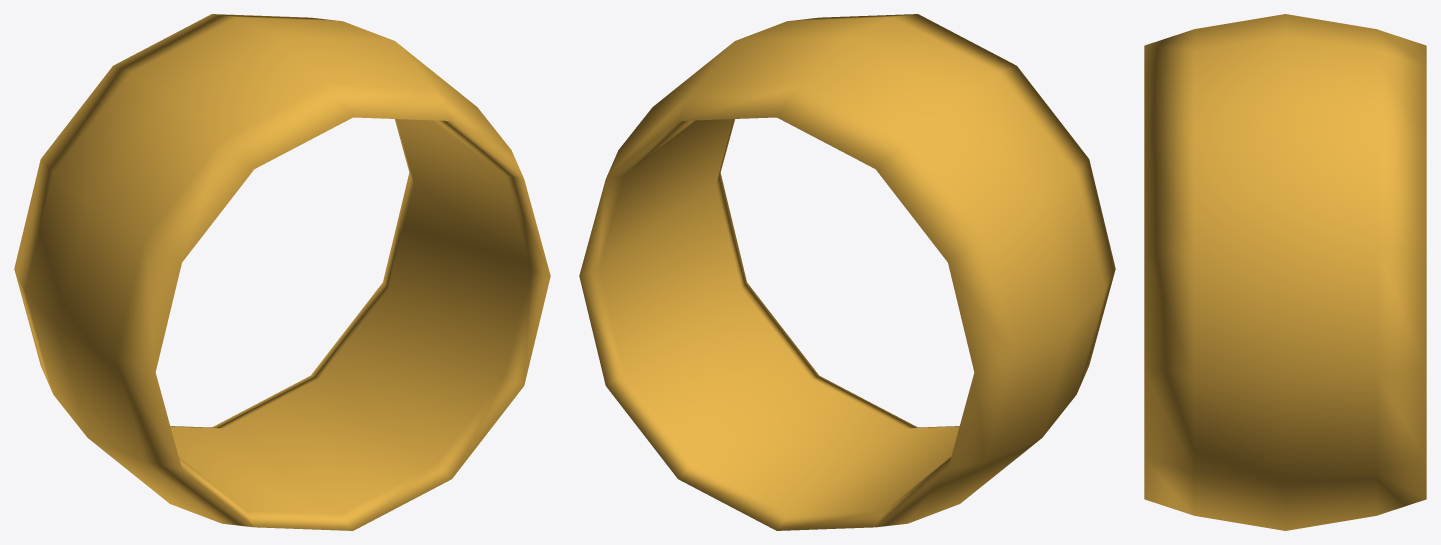
File: bangle-01.fbx
3 renders of one model, left to right at view 1: azimuth 30°, elevation 25°; view 2: azimuth 150°, elevation 25°; view 3: azimuth 270°, elevation 25°, orthographic.
Parts seen in each view (by area): view 1: Torus; view 2: Torus; view 3: Torus.
Part boxes in pixels (bbox=[...]): Torus: bbox=[14, 14, 550, 530]; Torus: bbox=[579, 14, 1115, 530]; Torus: bbox=[1144, 14, 1426, 530].
Bounding box in the file's own units: 10.71 × 10.71 × 5.82.
